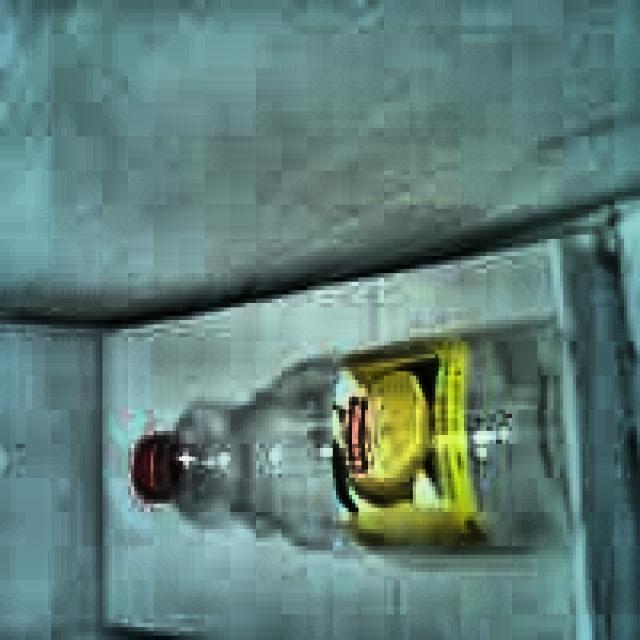Bottles: (85, 314, 640, 557)
